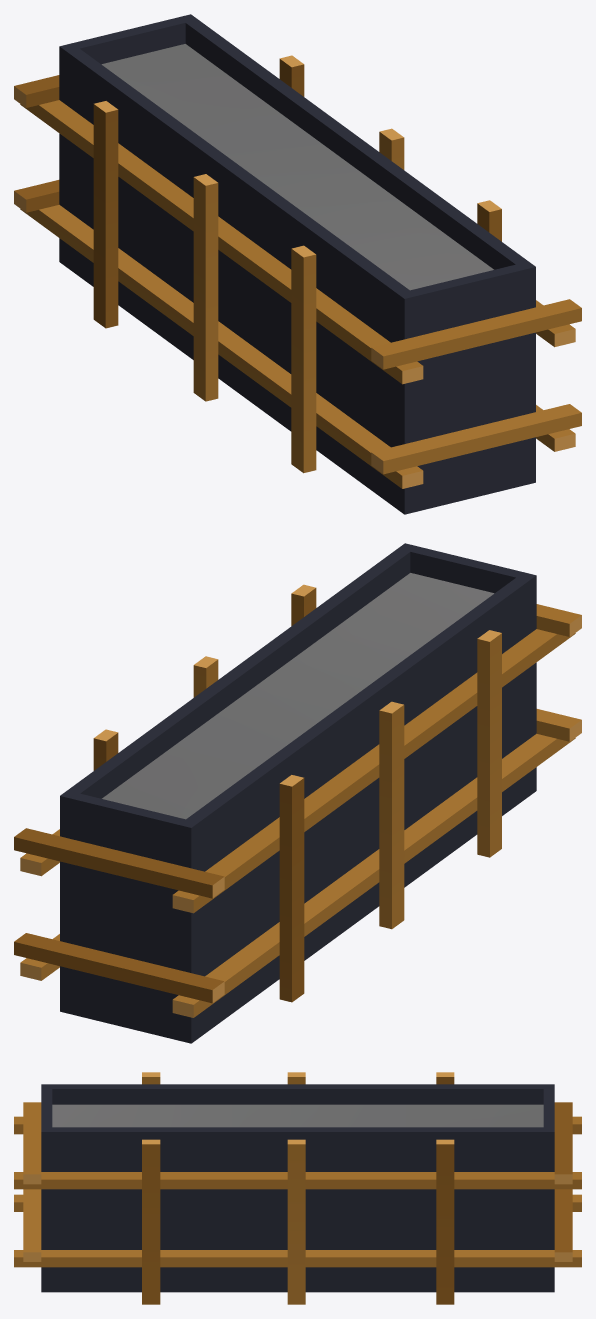
Rendered from ConcrateFrame_2_1.obj.
3 views of the same model, one above another, from view 1: azimuth 30°, elevation 25°; view 2: azimuth 150°, elevation 25°; view 3: azimuth 270°, elevation 25° (orthographic). The views are drawn at different scales.
Visible parts, largest first — view 1: ConcrateFrame_2_1; view 2: ConcrateFrame_2_1; view 3: ConcrateFrame_2_1.
Part boxes in pixels (x1,y1,x2,y2): ConcrateFrame_2_1: [14, 14, 581, 514]; ConcrateFrame_2_1: [14, 543, 581, 1043]; ConcrateFrame_2_1: [14, 1072, 581, 1304].
Size of the model in its own units: 1.39 by 1.44 by 4.63.
